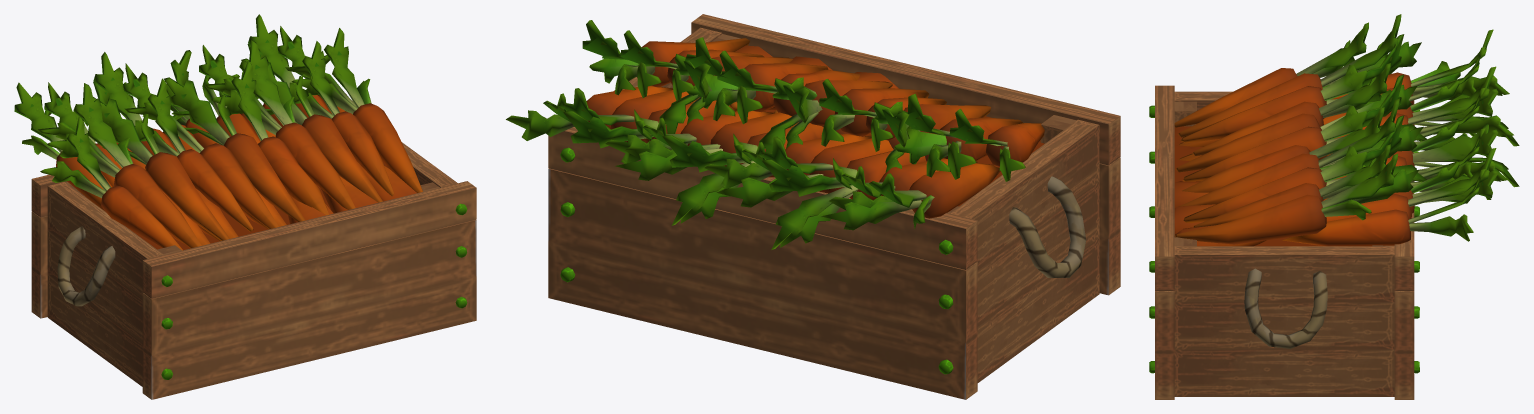
The model's file is FarmCrate_Carrot.glb.
The picture shows the model from 3 angles, left to right: view 1: azimuth 30°, elevation 25°; view 2: azimuth 150°, elevation 25°; view 3: azimuth 270°, elevation 25°; orthographic projection. The views are drawn at different scales.
Visible parts, largest first — view 1: FarmCrate_Carrot; view 2: FarmCrate_Carrot; view 3: FarmCrate_Carrot.
Part boxes in pixels (left/top/right/bottom): FarmCrate_Carrot: left=14, top=14, right=476, bottom=399; FarmCrate_Carrot: left=506, top=14, right=1120, bottom=399; FarmCrate_Carrot: left=1149, top=14, right=1519, bottom=399.
Bounding box in the file's own units: 0.7138 × 0.4113 × 0.567.
3 materials, 3 textured.
